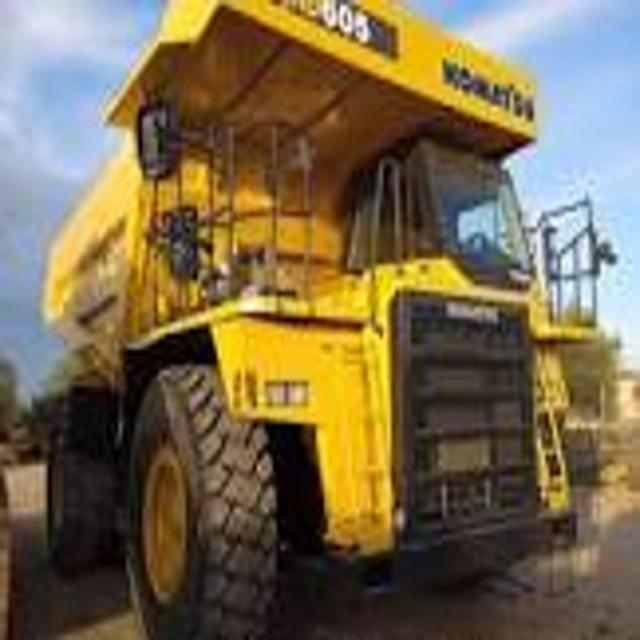dump_truck: (37, 0, 614, 638)
